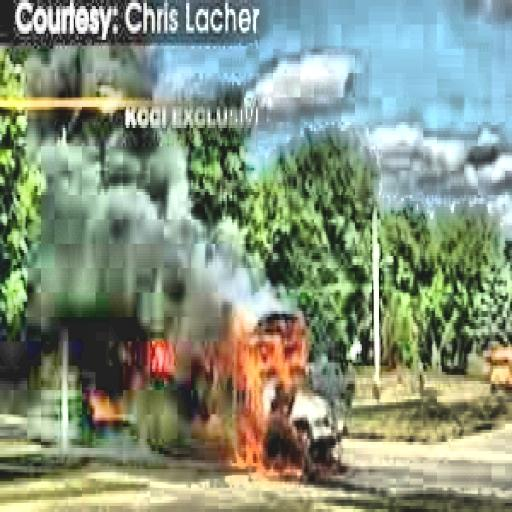fire: (230, 317, 310, 408), (232, 420, 333, 490), (145, 329, 178, 381)
